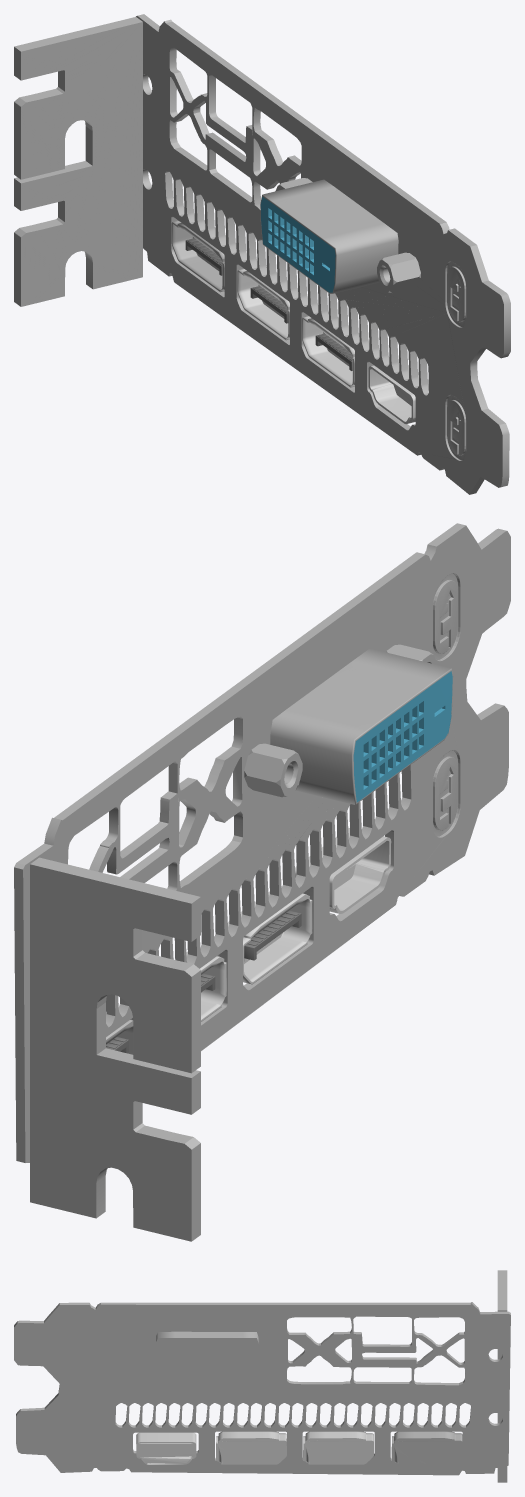
File: panel_io.glb
3 renders of one model, top to bottom at view 1: azimuth 30°, elevation 25°; view 2: azimuth 150°, elevation 25°; view 3: azimuth 270°, elevation 25°, orthographic. The views are drawn at different scales.
Visible parts, largest first — view 1: Plane002.001, Box001.008, Line005.006, Rectangle017.005, Rectangle015.003, Rectangle016.004, Rectangle019.004, NGon001; view 2: Plane002.001, Box001.008, Line005.006, Rectangle019.004, Rectangle015.003, NGon002, Rectangle016.004, Rectangle014.004; view 3: Plane002.001, Line005.006, Rectangle017.005, Rectangle016.004, Rectangle015.003, Rectangle019.004, Box001.008.
Part boxes in pixels (x1=…): Plane002.001: x1=136, y1=14, x2=510, y2=494; Box001.008: x1=14, y1=17, x2=142, y2=306; Line005.006: x1=260, y1=179, x2=398, y2=294; Rectangle017.005: x1=171, y1=220, x2=243, y2=292; Rectangle015.003: x1=302, y1=316, x2=369, y2=387; Rectangle016.004: x1=237, y1=267, x2=307, y2=340; Rectangle019.004: x1=368, y1=359, x2=428, y2=424; NGon001: x1=377, y1=252, x2=420, y2=293; Plane002.001: x1=14, y1=523, x2=510, y2=1162; Box001.008: x1=30, y1=857, x2=200, y2=1241; Line005.006: x1=270, y1=648, x2=453, y2=804; Rectangle019.004: x1=295, y1=828, x2=391, y2=913; Rectangle015.003: x1=217, y1=891, x2=312, y2=984; NGon002: x1=244, y1=743, x2=302, y2=797; Rectangle016.004: x1=130, y1=951, x2=226, y2=1021; Rectangle014.004: x1=244, y1=910, x2=301, y2=960; Plane002.001: x1=14, y1=1302, x2=510, y2=1475; Line005.006: x1=156, y1=1331, x2=259, y2=1371; Rectangle017.005: x1=391, y1=1431, x2=462, y2=1464; Rectangle016.004: x1=303, y1=1431, x2=373, y2=1464; Rectangle015.003: x1=216, y1=1431, x2=286, y2=1464; Rectangle019.004: x1=136, y1=1432, x2=196, y2=1464; Box001.008: x1=497, y1=1270, x2=507, y2=1482.
Size of the model in its own units: 0.4671 by 0.7782 by 1.93.
